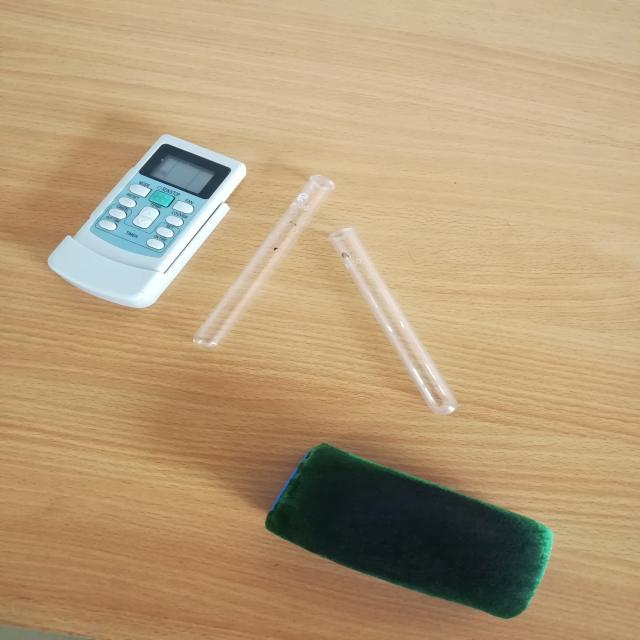Test_Tube: (182, 160, 383, 362), (314, 213, 496, 425)
